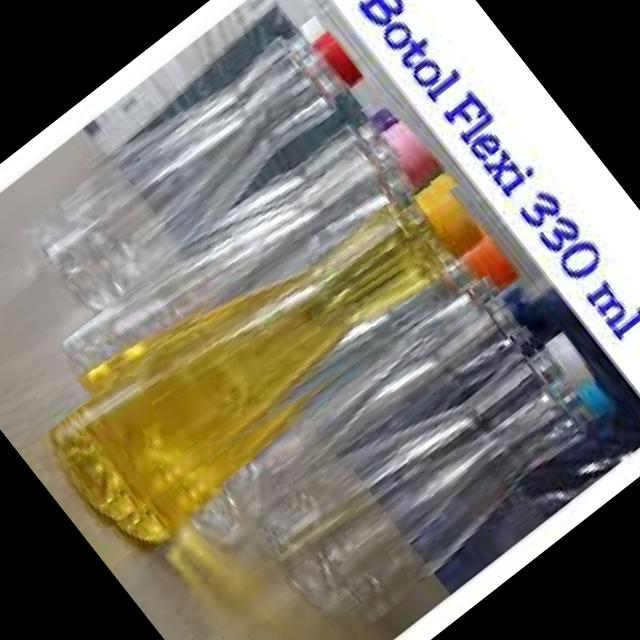plastic bottle: (28, 151, 499, 564), (48, 87, 464, 450), (4, 3, 392, 350), (257, 308, 615, 622), (220, 260, 575, 572)
